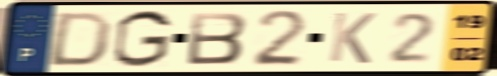2: (252, 9, 310, 68), (385, 10, 441, 65)
B: (184, 10, 251, 67)
D: (43, 10, 116, 68)
G: (110, 8, 175, 70)
K: (326, 10, 379, 66)
